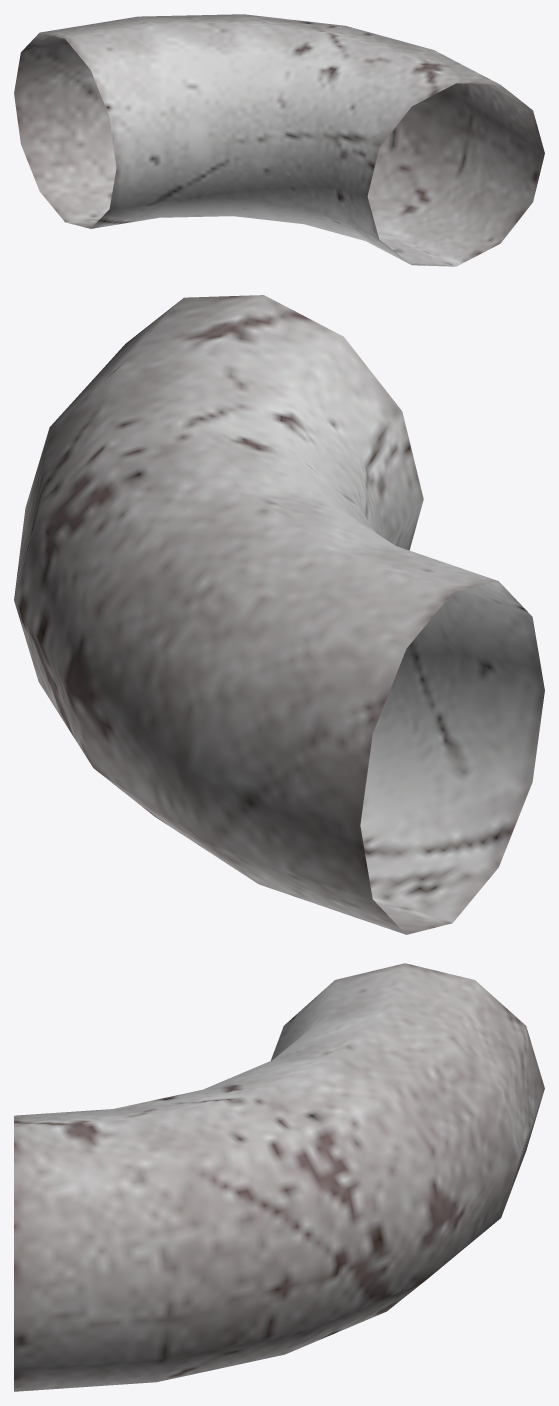
Rendered from pipe_curve.fbx.
3 renders of one model, top to bottom at view 1: azimuth 30°, elevation 25°; view 2: azimuth 150°, elevation 25°; view 3: azimuth 270°, elevation 25°, orthographic. The views are drawn at different scales.
Parts seen in each view (by area): view 1: pipe_curve; view 2: pipe_curve; view 3: pipe_curve.
Part boxes in pixels (x1,y1,x2,y2): pipe_curve: [14, 14, 544, 266]; pipe_curve: [14, 295, 544, 934]; pipe_curve: [14, 963, 544, 1391].
Bounding box in the file's own units: 19.2 × 10 × 19.2.
